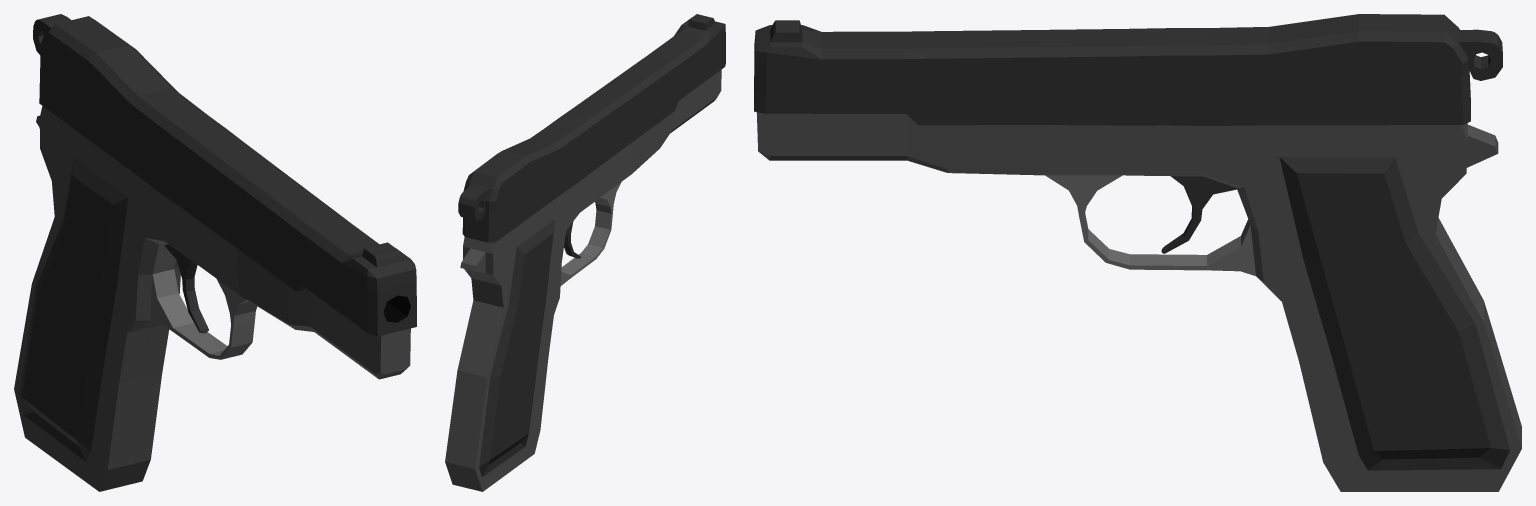
File: weapon_pistol.fbx
3 renders of one model, left to right at view 1: azimuth 30°, elevation 25°; view 2: azimuth 150°, elevation 25°; view 3: azimuth 270°, elevation 25°, orthographic. The views are drawn at different scales.
Visible parts, largest first — view 1: Body, Slide, Trigger; view 2: Body, Slide; view 3: Body, Slide, Trigger.
Part boxes in pixels (x1,y1,x2,y2): Body: (14, 106, 410, 491); Slide: (33, 14, 416, 336); Trigger: (165, 244, 208, 333); Body: (445, 69, 721, 491); Slide: (458, 14, 725, 242); Body: (756, 112, 1521, 491); Slide: (754, 14, 1502, 125); Trigger: (1161, 176, 1236, 253).
Size of the model in its own units: 0.0262 by 0.1907 by 0.2897.
